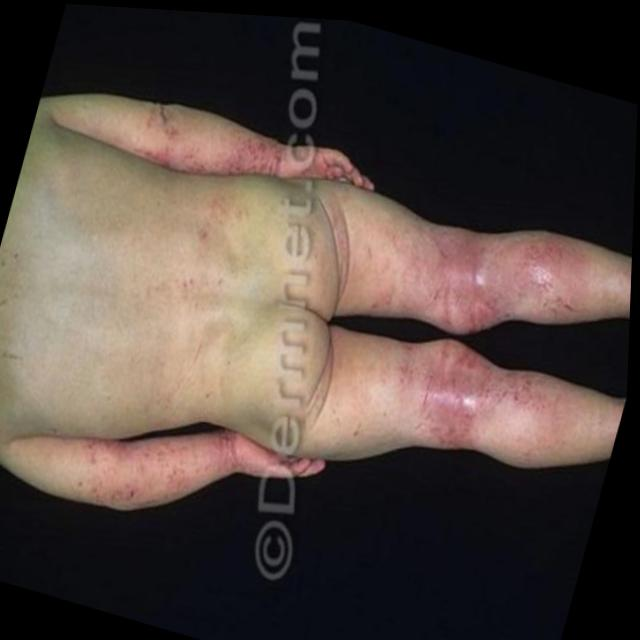Eczema: (370, 193, 615, 475), (131, 73, 313, 208), (72, 401, 265, 518), (196, 184, 242, 252)
